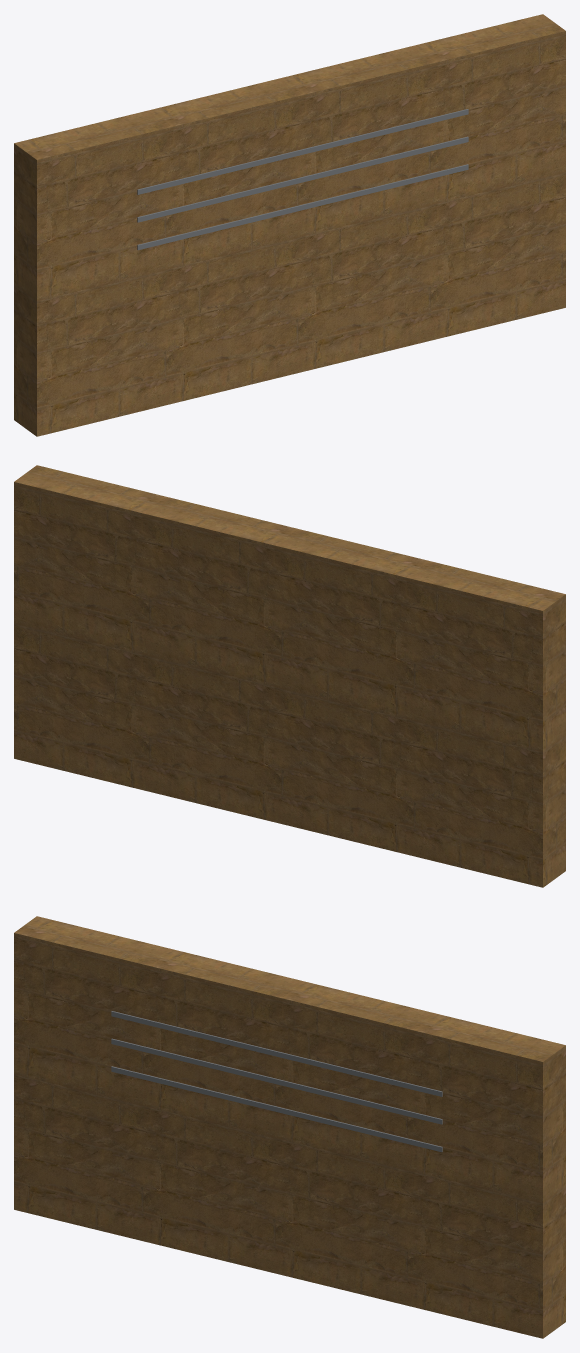
Rendered from inscricao.glb.
3 views of the same model, one above another, from view 1: azimuth 30°, elevation 25°; view 2: azimuth 150°, elevation 25°; view 3: azimuth 330°, elevation 25° (orthographic).
Parts seen in each view (by area): view 1: Parede, Linha sem palavras reconstruídas, Linha sem palavras reconstruídas.001, Linha sem palavras reconstruídas.002; view 2: Parede; view 3: Parede, Linha sem palavras reconstruídas, Linha sem palavras reconstruídas.001, Linha sem palavras reconstruídas.002.
Boxes of the visible parts, x1,y1,x2,y2 form: Parede: (14,14,565,436); Linha sem palavras reconstruídas: (137,164,468,250); Linha sem palavras reconstruídas.001: (137,136,468,222); Linha sem palavras reconstruídas.002: (137,109,468,194); Parede: (14,465,565,887); Parede: (14,916,565,1338); Linha sem palavras reconstruídas: (111,1066,442,1152); Linha sem palavras reconstruídas.001: (111,1038,442,1124); Linha sem palavras reconstruídas.002: (111,1011,442,1096).
Bounding box in the file's own units: 4 × 2 × 0.325.
Materials: 2 (1 with a texture image).
